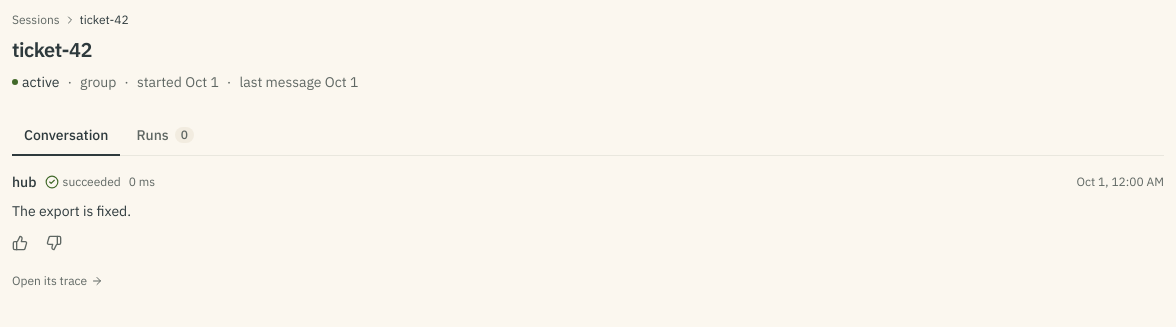
Test case: when the brain says no › closes the note and rolls back when a 👎 is refused
The width and height of the screenshot is (1176, 327).
Expected: the heading "ticket-42" is shown, [12, 36, 92, 63]
Click the button named "This answer was wrong".
click(54, 243)  # box [38, 227, 70, 259]
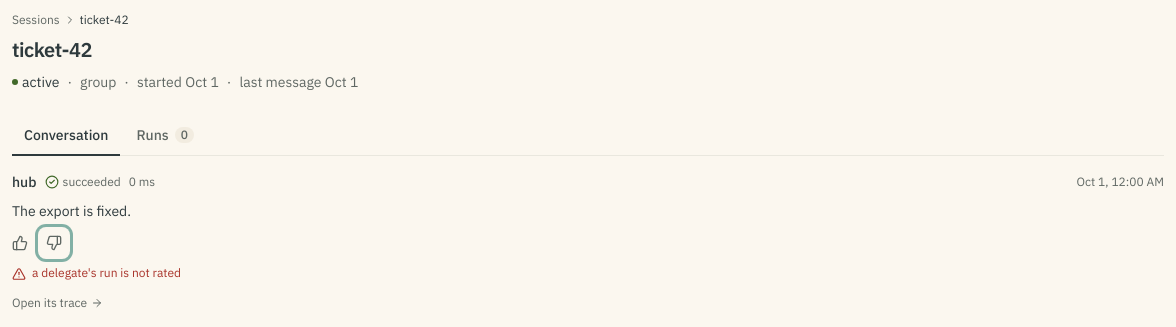
Expected: the message reads "a delegate's run is not rated", [32, 265, 181, 280]
